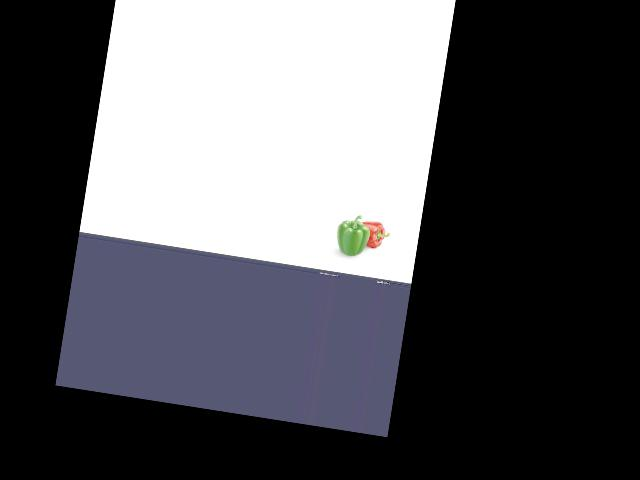bell_pepper: (357, 215, 391, 249)
